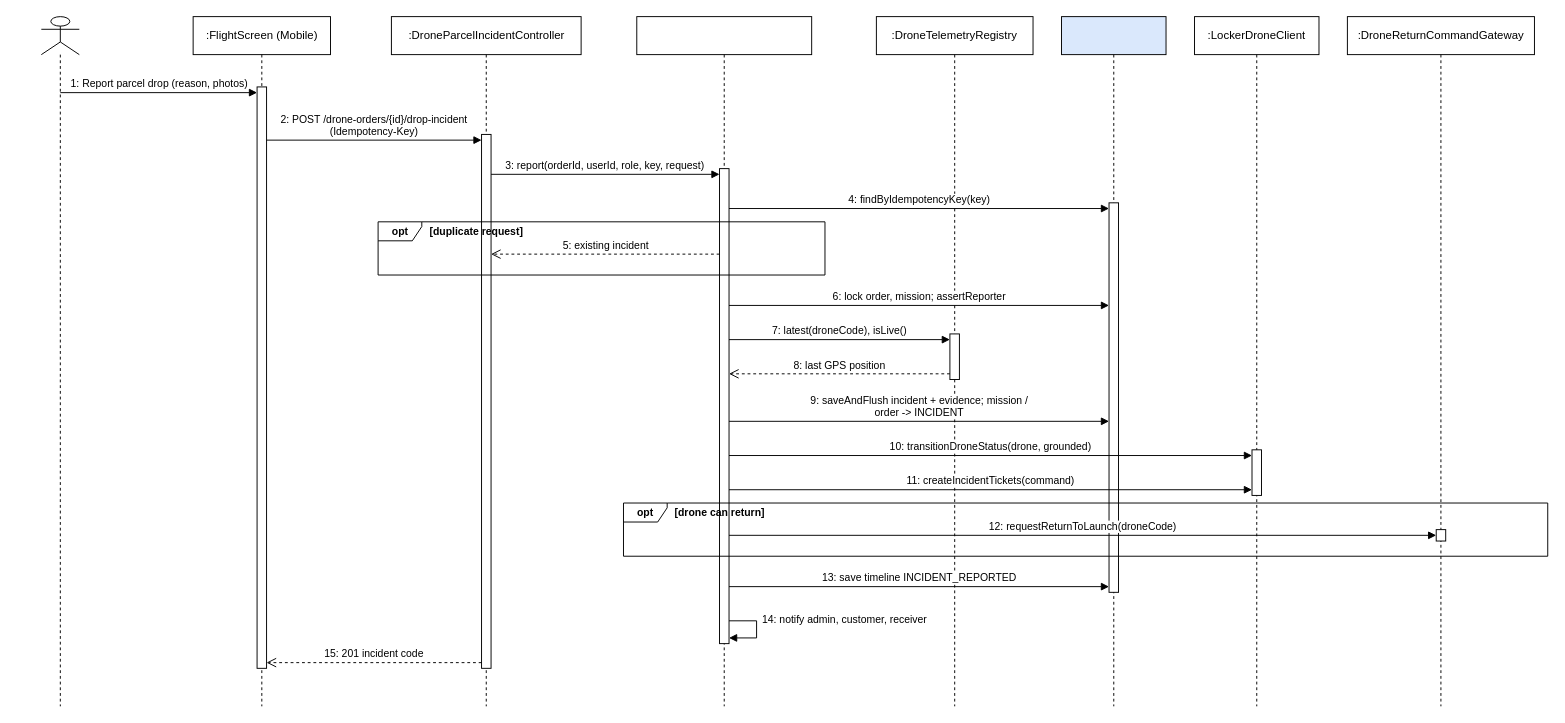
Image size: 1565x723. Some labels were removed from this diagram. The box of each missing label's shape, as (x1, y1, x2, y2) in pixels:
:DroneParcelIncidentService: (636, 16, 812, 706)
:order_db: (1061, 16, 1166, 706)
Drone Technician: (40, 16, 79, 706)
